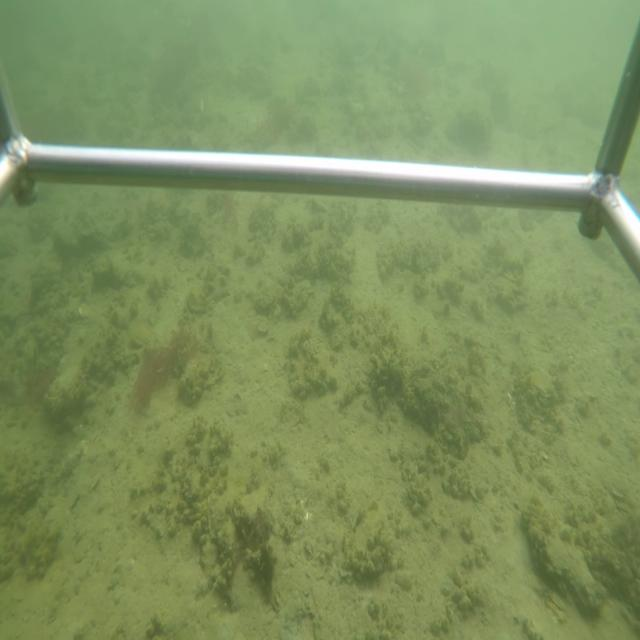Oyster-Closed: (521, 516, 609, 619)
Oyster-Open: (180, 285, 212, 322)
